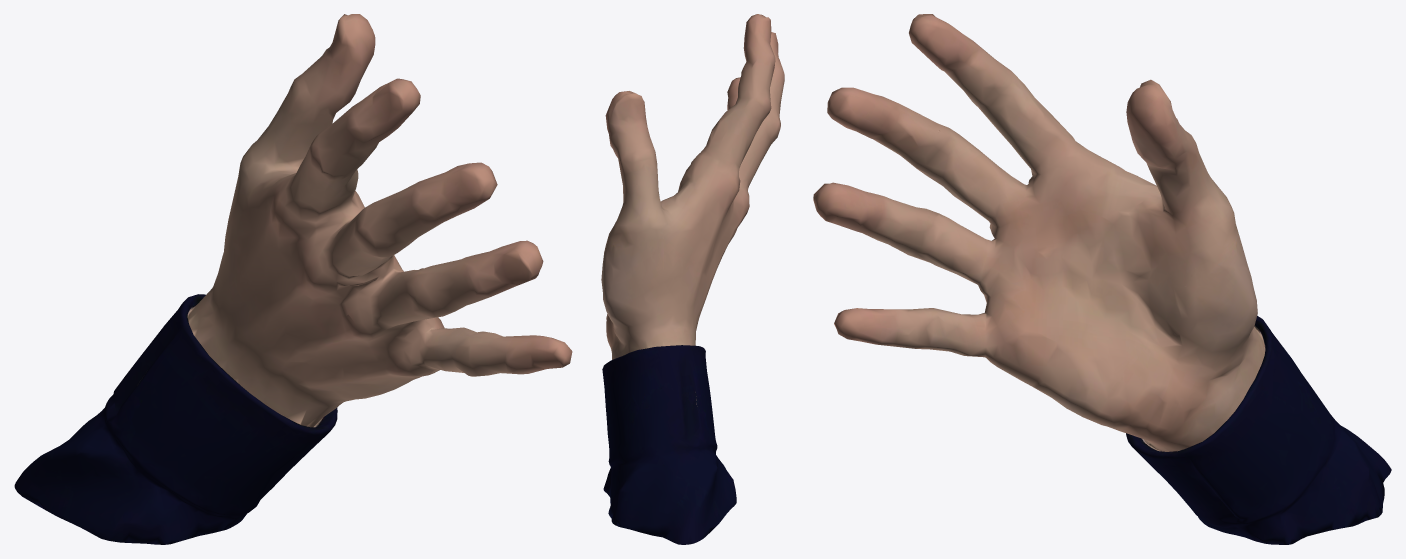
The model's file is palm-a.glb.
3 renders of one model, left to right at view 1: azimuth 30°, elevation 25°; view 2: azimuth 150°, elevation 25°; view 3: azimuth 270°, elevation 25°, orthographic. The views are drawn at different scales.
Visible parts, largest first — view 1: tripo_node_9e7d8220-dbcc-4151-b169-a198522ba3d0; view 2: tripo_node_9e7d8220-dbcc-4151-b169-a198522ba3d0; view 3: tripo_node_9e7d8220-dbcc-4151-b169-a198522ba3d0.
Part boxes in pixels (box(x1,y1,x2,y2)): tripo_node_9e7d8220-dbcc-4151-b169-a198522ba3d0: box(14, 14, 572, 544); tripo_node_9e7d8220-dbcc-4151-b169-a198522ba3d0: box(601, 14, 784, 544); tripo_node_9e7d8220-dbcc-4151-b169-a198522ba3d0: box(813, 14, 1391, 544).
Size of the model in its own units: 0.5225 by 0.9838 by 1.
Materials: 1 (1 with a texture image).
